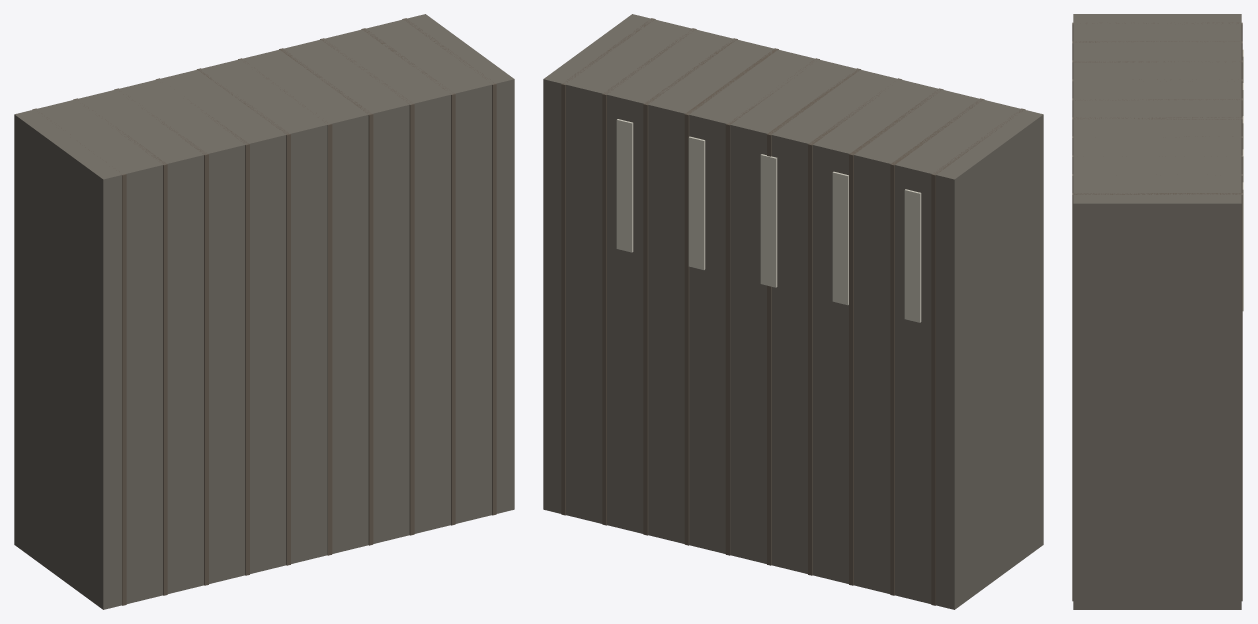
Rendered from f13-cliff-face.glb.
The picture shows the model from 3 angles, left to right: view 1: azimuth 30°, elevation 25°; view 2: azimuth 150°, elevation 25°; view 3: azimuth 270°, elevation 25°; orthographic projection. The views are drawn at different scales.
Visible parts, largest first — view 1: part0, part7, part8, part6, part9, part5, part10, part3, part2, part4, part1; view 2: part0, part8, part7, part6, part2, part3, part10, part9, part1, part4, part11, part15 (+4 smaller); view 3: part0, part10, part15.
Part boxes in pixels (<box>): part0: <box>14,14,514,609</box>; part7: <box>279,48,373,545</box>; part8: <box>320,38,414,535</box>; part6: <box>238,58,332,555</box>; part9: <box>361,28,455,525</box>; part5: <box>197,68,290,565</box>; part10: <box>402,18,496,515</box>; part3: <box>114,88,208,585</box>; part2: <box>73,98,167,595</box>; part4: <box>156,78,249,575</box>; part1: <box>32,108,126,605</box>; part0: <box>543,14,1043,609</box>; part8: <box>643,38,737,535</box>; part7: <box>684,48,778,545</box>; part6: <box>725,58,819,555</box>; part2: <box>890,98,984,595</box>; part3: <box>849,88,943,585</box>; part10: <box>561,18,655,515</box>; part9: <box>602,28,696,525</box>; part1: <box>931,108,1025,605</box>; part4: <box>808,78,901,575</box>; part11: <box>904,189,921,322</box>; part15: <box>616,119,633,252</box>; part0: <box>1073,14,1241,609</box>; part10: <box>1072,193,1242,601</box>; part15: <box>1242,182,1243,311</box>.
Size of the model in its own units: 40000 by 40000 by 15300.
